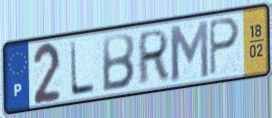2: (32, 40, 64, 107)
B: (100, 31, 137, 94)
L: (68, 39, 97, 99)
M: (167, 18, 211, 84)
P: (208, 16, 242, 79)
R: (136, 27, 171, 88)
